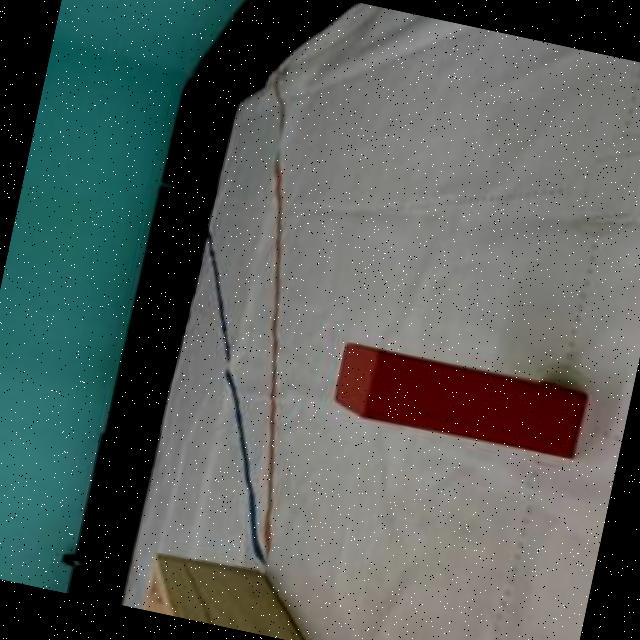redbox: (331, 340, 588, 460)
